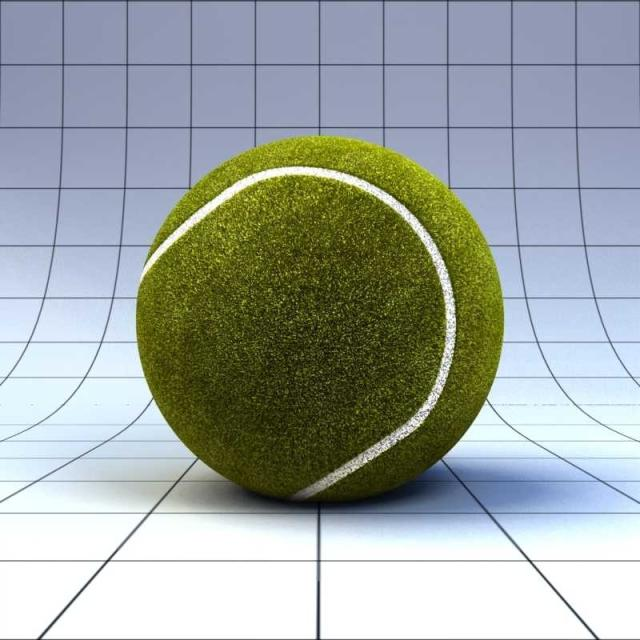Tennis_Ball: (139, 141, 506, 509)
